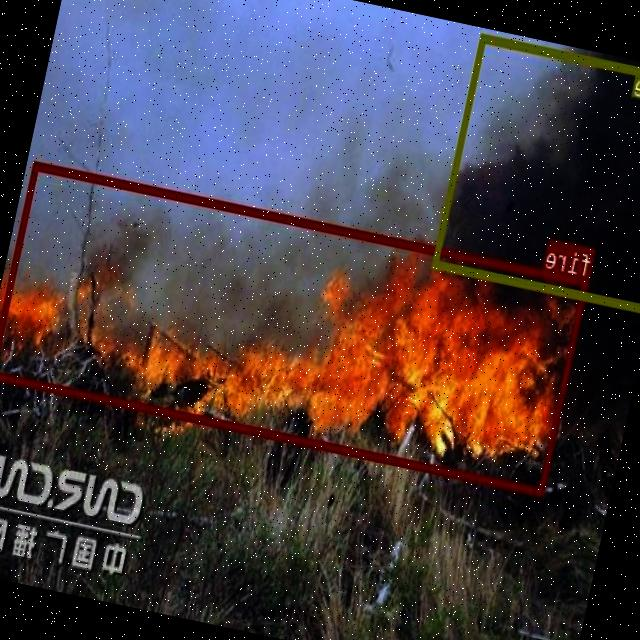fire: (0, 159, 591, 495)
smoke: (433, 32, 640, 311)
